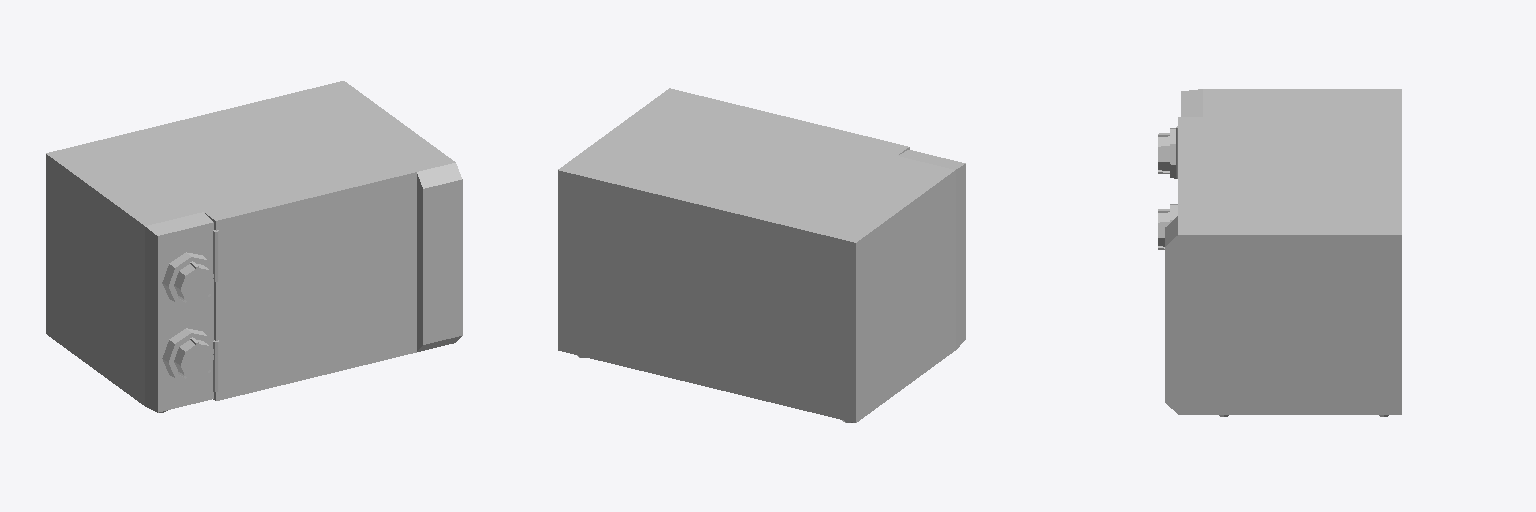
File: appliance_microwave.obj
The picture shows the model from 3 angles: view 1: azimuth 30°, elevation 25°; view 2: azimuth 150°, elevation 25°; view 3: azimuth 270°, elevation 25°; orthographic projection.
Parts seen in each view (by area): view 1: appliance_microwave_Cube.268, appliance_microwave_door_Cube.269, appliance_microwave_knob_Cube.418, appliance_microwave_knob.001_Cube.417; view 2: appliance_microwave_Cube.268, appliance_microwave_door_Cube.269; view 3: appliance_microwave_Cube.268, appliance_microwave_door_Cube.269, appliance_microwave_knob.001_Cube.417.
Boxes of the visible parts, <box> form: appliance_microwave_Cube.268: <box>46,81,442,412</box>; appliance_microwave_door_Cube.269: <box>204,153,462,400</box>; appliance_microwave_knob_Cube.418: <box>162,328,213,380</box>; appliance_microwave_knob.001_Cube.417: <box>162,252,213,304</box>; appliance_microwave_Cube.268: <box>558,97,965,422</box>; appliance_microwave_door_Cube.269: <box>658,88,909,155</box>; appliance_microwave_Cube.268: <box>1181,89,1401,416</box>; appliance_microwave_door_Cube.269: <box>1165,117,1202,414</box>; appliance_microwave_knob.001_Cube.417: <box>1158,128,1176,178</box>.
Bounding box in the file's own units: 9.99 × 6.03 × 7.09.